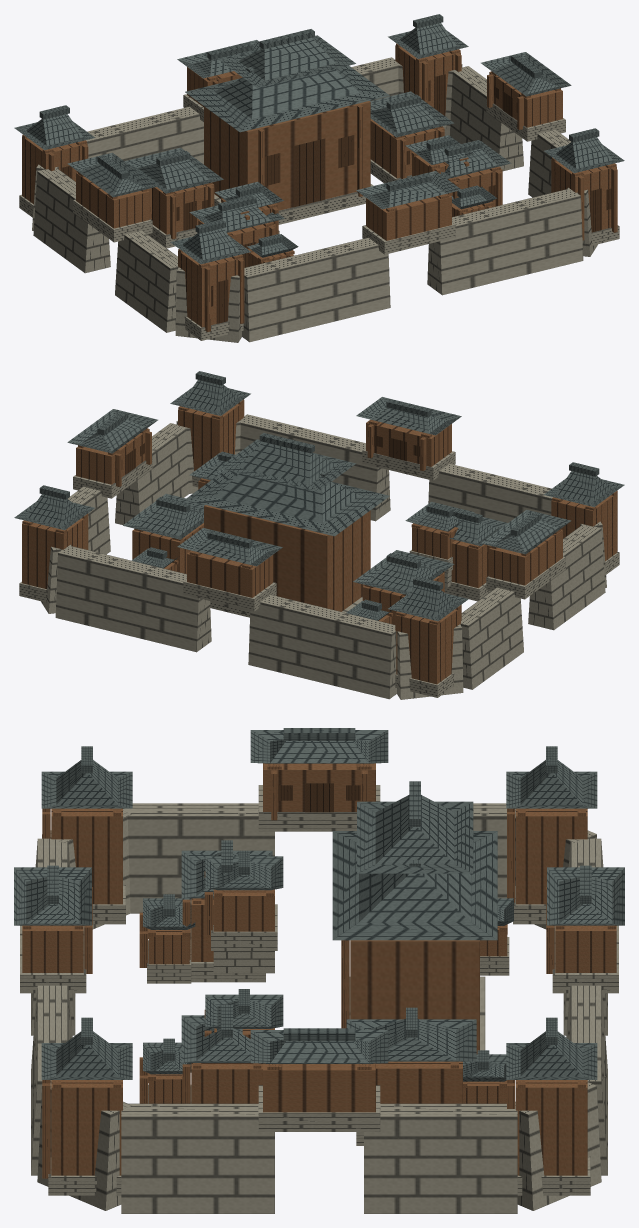
The model's file is city0-lod1.glb.
3 renders of one model, top to bottom at view 1: azimuth 30°, elevation 25°; view 2: azimuth 150°, elevation 25°; view 3: azimuth 270°, elevation 25°, orthographic. The views are drawn at different scales.
Bounding box in the file's own units: 2.31 × 0.821 × 1.79.
Materials: 1 (1 with a texture image).
